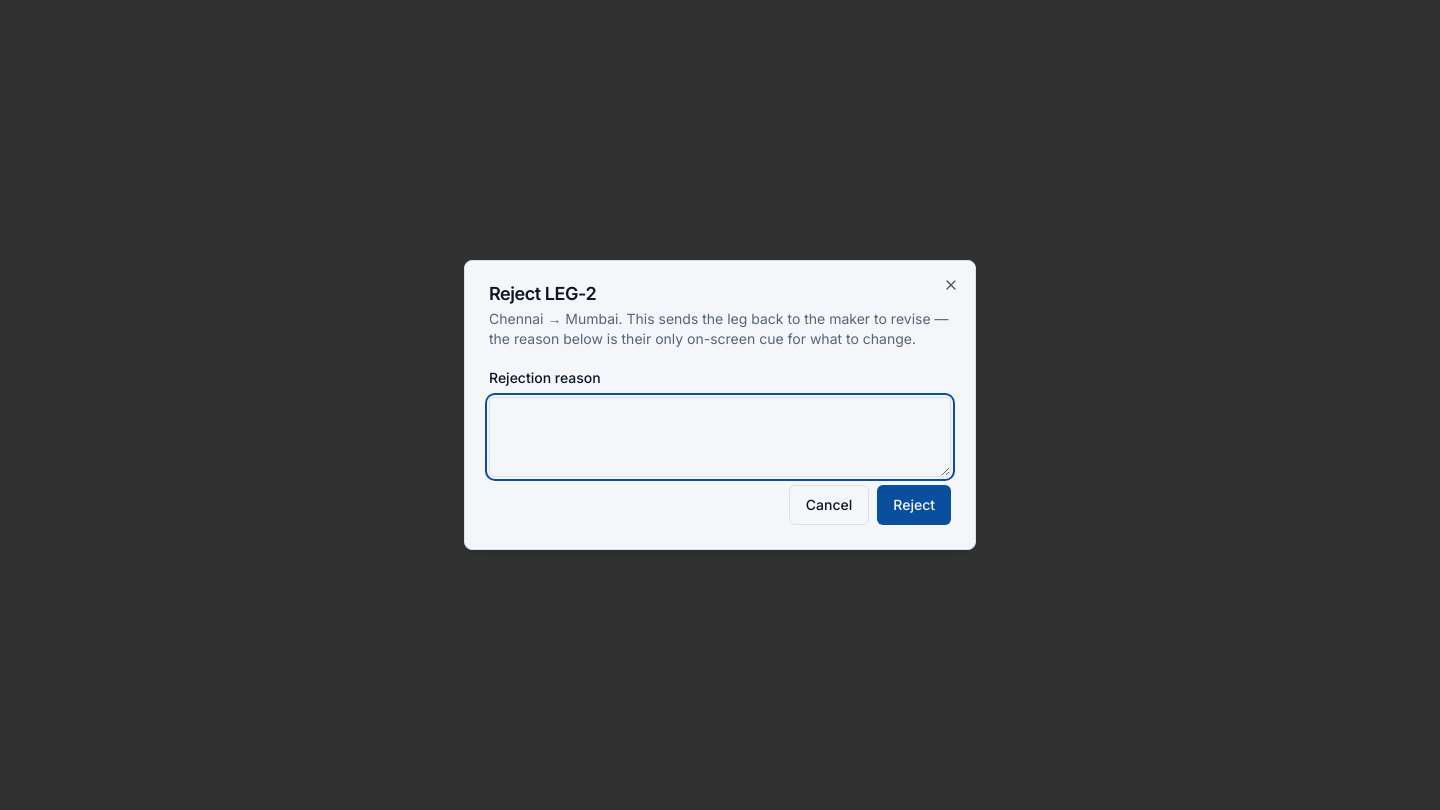
RejectDialog › surfaces a failure inline and keeps the dialog open to retry
The width and height of the screenshot is (1440, 810).
Step 1. Type "Price too high" into the text box labelled "Rejection reason" → (720, 437), box x1=489 y1=397 x2=951 y2=477
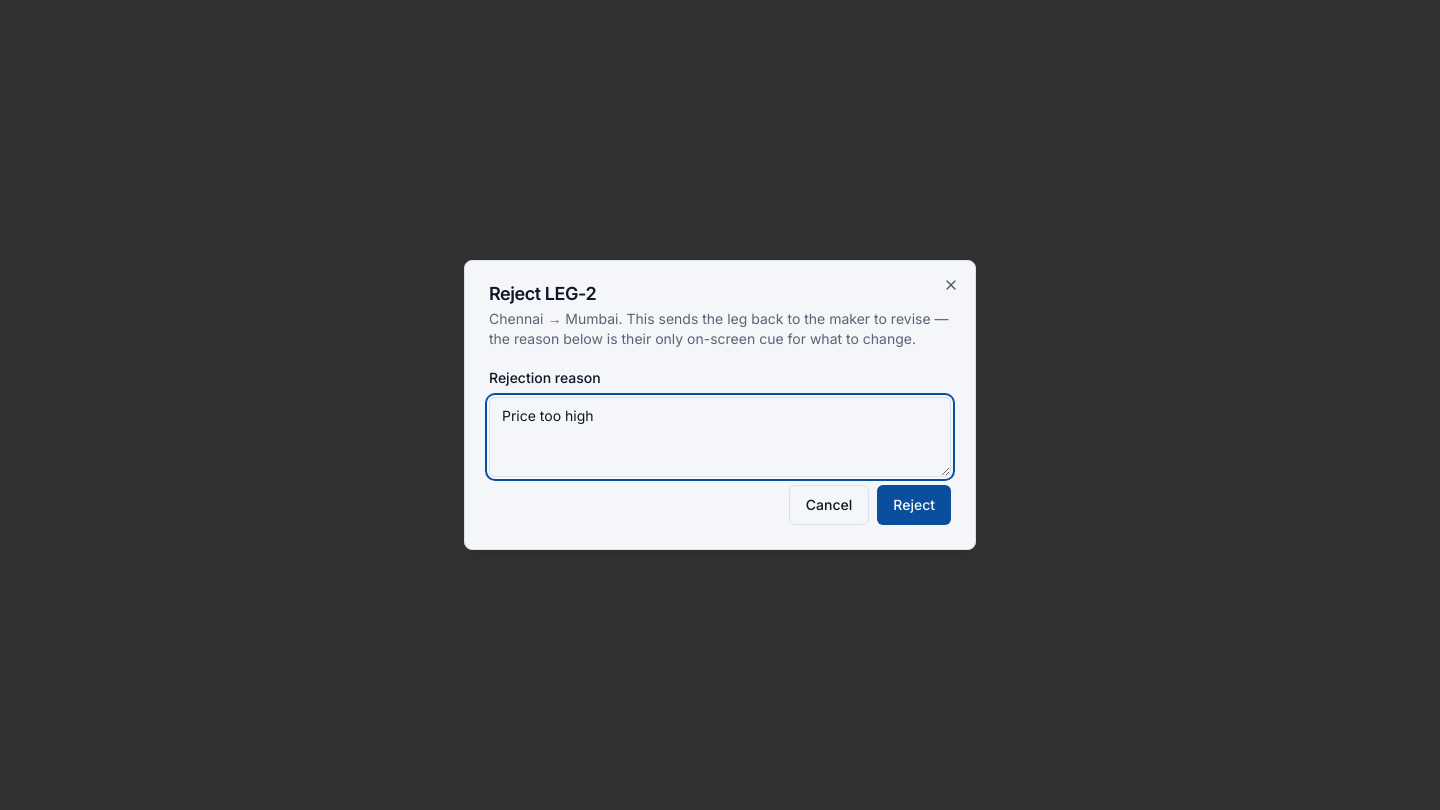
Step 2. Click the button "Reject" → (914, 505), box x1=877 y1=485 x2=951 y2=525
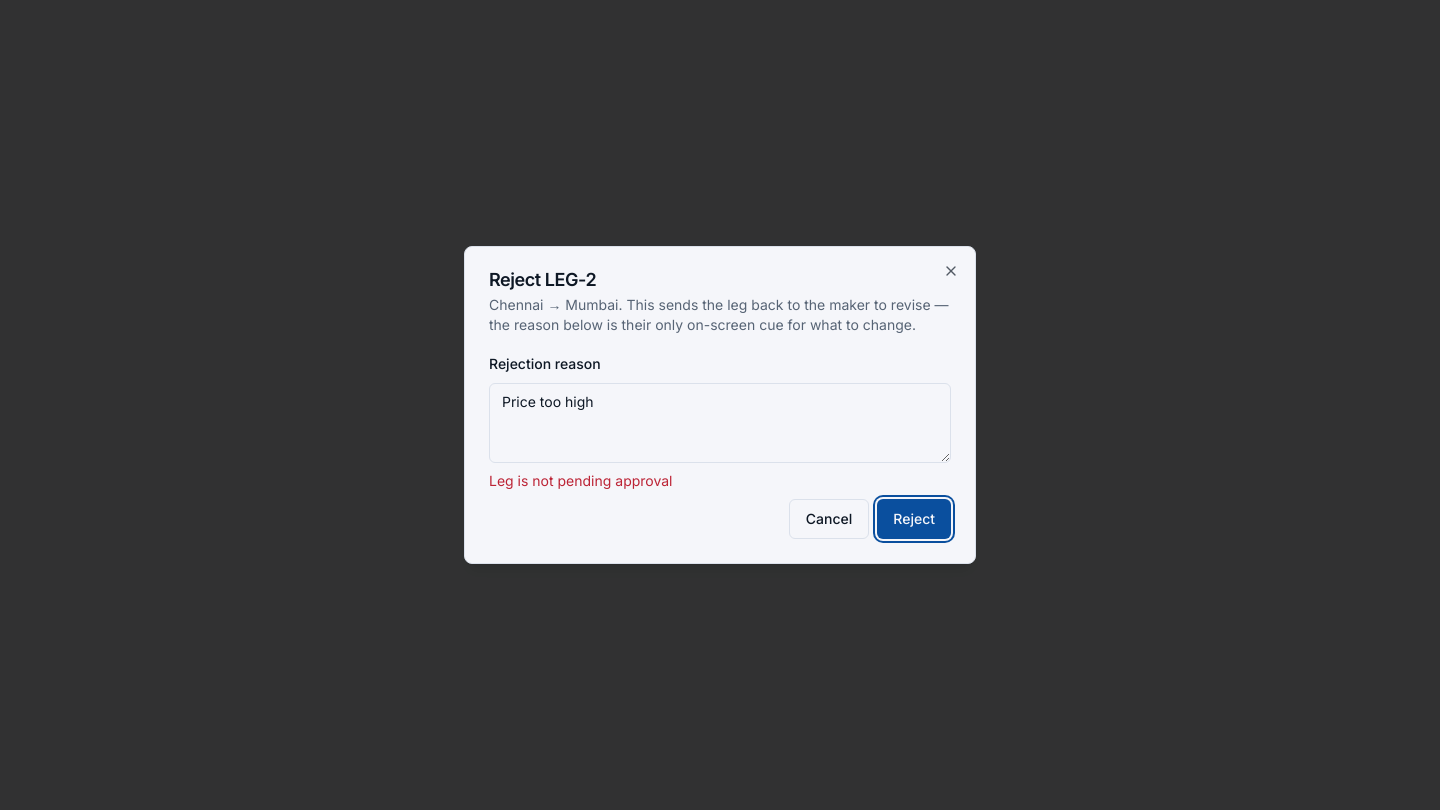
Result: the message shows "not pending approval" at x1=489 y1=472 x2=672 y2=489
